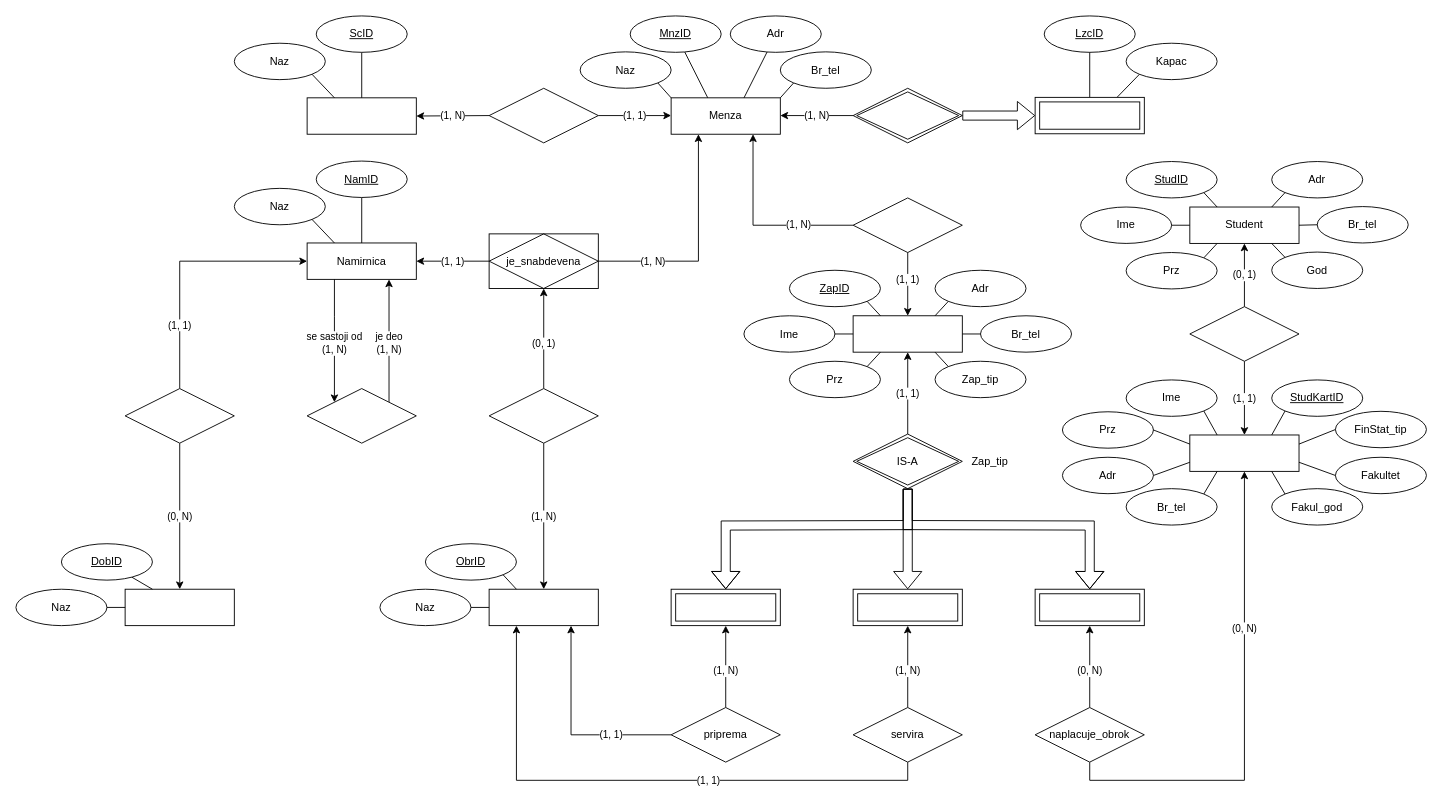
Some shapes in this 1442 by 804 pixel diagram are drawn without their labels. Here are the shapes that lost their labels. From the top down, the centre of each, then its label:
point 361,115: Studentski_centar
point 543,115: postoji
point 907,115: se_nalazi
point 1089,115: Linija_za_cekanje
point 907,225: radi
point 907,333: Zaposleni
point 1244,333: poseduje
point 179,415: dobavlja
point 361,415: sastojak
point 543,415: je_deo
point 1244,452: Studentska_kartica
point 179,607: Dobavljac
point 543,607: Obrok
point 725,607: Kuvar
point 907,607: Server
point 1089,607: Blagajnik
